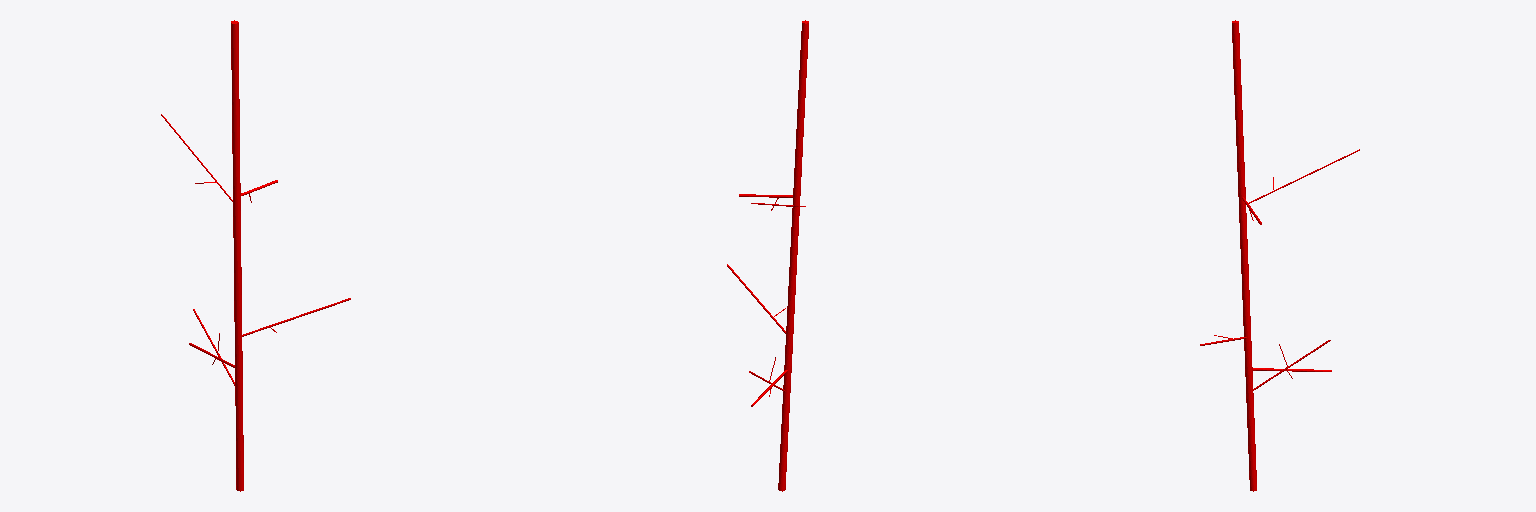
The robot description file, URDF, robot "tree_133.urdf":
<?xml version='1.0' encoding='UTF-8'?>
<robot name="tree_133.urdf">
  <link name="branch_0">
    <inertial>
      <origin xyz="0.0 0.0 0.0" rpy="0.0 -0.0 0.0"/>
      <mass value="0.1"/>
      <inertia ixx="0.001" ixy="0.0" ixz="0.0" iyy="0.001" iyz="0.0" izz="0.001"/>
    </inertial>
    <visual name="branch_0_visual">
      <geometry>
        <cylinder radius="0.07744675478406188" length="10.691958304787752"/>
      </geometry>
      <material name="semantic_material"/>
      <origin xyz="-0.1755566281774261 -0.1914332636066409 5.339665370949552" rpy="0.0 0.04860588912998783 -2.3129596706876603"/>
    </visual>
    <collision name="branch_0_collision">
      <geometry>
        <cylinder radius="0.07744675478406188" length="10.691958304787752"/>
      </geometry>
      <origin xyz="-0.1755566281774261 -0.1914332636066409 5.339665370949552" rpy="0.0 0.04860588912998783 -2.3129596706876603"/>
    </collision>
  </link>
  <link name="branch_1">
    <inertial>
      <origin xyz="0.0 0.0 0.0" rpy="0.0 -0.0 0.0"/>
      <mass value="0.1"/>
      <inertia ixx="0.001" ixy="0.0" ixz="0.0" iyy="0.001" iyz="0.0" izz="0.001"/>
    </inertial>
    <visual name="branch_1_visual">
      <geometry>
        <cylinder radius="0.028432293854142393" length="1.2331762873858894"/>
      </geometry>
      <material name="semantic_material"/>
      <origin xyz="0.0 0.0 0.0" rpy="0.0 -0.0 0.0"/>
    </visual>
    <collision name="branch_1_collision">
      <geometry>
        <cylinder radius="0.028432293854142393" length="1.2331762873858894"/>
      </geometry>
      <origin xyz="0.0 0.0 0.0" rpy="0.0 -0.0 0.0"/>
    </collision>
  </link>
  <link name="branch_2">
    <inertial>
      <origin xyz="0.0 0.0 0.0" rpy="0.0 -0.0 0.0"/>
      <mass value="0.1"/>
      <inertia ixx="0.001" ixy="0.0" ixz="0.0" iyy="0.001" iyz="0.0" izz="0.001"/>
    </inertial>
    <visual name="branch_2_visual">
      <geometry>
        <cylinder radius="0.01" length="0.3638262122680641"/>
      </geometry>
      <material name="semantic_material"/>
      <origin xyz="0.0 0.0 0.0" rpy="0.0 -0.0 0.0"/>
    </visual>
    <collision name="branch_2_collision">
      <geometry>
        <cylinder radius="0.01" length="0.3638262122680641"/>
      </geometry>
      <origin xyz="0.0 0.0 0.0" rpy="0.0 -0.0 0.0"/>
    </collision>
  </link>
  <link name="branch_3">
    <inertial>
      <origin xyz="0.0 0.0 0.0" rpy="0.0 -0.0 0.0"/>
      <mass value="0.1"/>
      <inertia ixx="0.001" ixy="0.0" ixz="0.0" iyy="0.001" iyz="0.0" izz="0.001"/>
    </inertial>
    <visual name="branch_3_visual">
      <geometry>
        <cylinder radius="0.019584868382177083" length="2.0653092703770506"/>
      </geometry>
      <material name="semantic_material"/>
      <origin xyz="0.0 0.0 0.0" rpy="0.0 -0.0 0.0"/>
    </visual>
    <collision name="branch_3_collision">
      <geometry>
        <cylinder radius="0.019584868382177083" length="2.0653092703770506"/>
      </geometry>
      <origin xyz="0.0 0.0 0.0" rpy="0.0 -0.0 0.0"/>
    </collision>
  </link>
  <link name="branch_4">
    <inertial>
      <origin xyz="0.0 0.0 0.0" rpy="0.0 -0.0 0.0"/>
      <mass value="0.1"/>
      <inertia ixx="0.001" ixy="0.0" ixz="0.0" iyy="0.001" iyz="0.0" izz="0.001"/>
    </inertial>
    <visual name="branch_4_visual">
      <geometry>
        <cylinder radius="0.01" length="0.5587573632842031"/>
      </geometry>
      <material name="semantic_material"/>
      <origin xyz="0.0 0.0 0.0" rpy="0.0 -0.0 0.0"/>
    </visual>
    <collision name="branch_4_collision">
      <geometry>
        <cylinder radius="0.01" length="0.5587573632842031"/>
      </geometry>
      <origin xyz="0.0 0.0 0.0" rpy="0.0 -0.0 0.0"/>
    </collision>
  </link>
  <link name="branch_5">
    <inertial>
      <origin xyz="0.0 0.0 0.0" rpy="0.0 -0.0 0.0"/>
      <mass value="0.1"/>
      <inertia ixx="0.001" ixy="0.0" ixz="0.0" iyy="0.001" iyz="0.0" izz="0.001"/>
    </inertial>
    <visual name="branch_5_visual">
      <geometry>
        <cylinder radius="0.026598497056350184" length="1.756850281171683"/>
      </geometry>
      <material name="semantic_material"/>
      <origin xyz="0.0 0.0 0.0" rpy="0.0 -0.0 0.0"/>
    </visual>
    <collision name="branch_5_collision">
      <geometry>
        <cylinder radius="0.026598497056350184" length="1.756850281171683"/>
      </geometry>
      <origin xyz="0.0 0.0 0.0" rpy="0.0 -0.0 0.0"/>
    </collision>
  </link>
  <link name="branch_6">
    <inertial>
      <origin xyz="0.0 0.0 0.0" rpy="0.0 -0.0 0.0"/>
      <mass value="0.1"/>
      <inertia ixx="0.001" ixy="0.0" ixz="0.0" iyy="0.001" iyz="0.0" izz="0.001"/>
    </inertial>
    <visual name="branch_6_visual">
      <geometry>
        <cylinder radius="0.01" length="0.23416071700882568"/>
      </geometry>
      <material name="semantic_material"/>
      <origin xyz="0.0 0.0 0.0" rpy="0.0 -0.0 0.0"/>
    </visual>
    <collision name="branch_6_collision">
      <geometry>
        <cylinder radius="0.01" length="0.23416071700882568"/>
      </geometry>
      <origin xyz="0.0 0.0 0.0" rpy="0.0 -0.0 0.0"/>
    </collision>
  </link>
  <link name="branch_7">
    <inertial>
      <origin xyz="0.0 0.0 0.0" rpy="0.0 -0.0 0.0"/>
      <mass value="0.1"/>
      <inertia ixx="0.001" ixy="0.0" ixz="0.0" iyy="0.001" iyz="0.0" izz="0.001"/>
    </inertial>
    <visual name="branch_7_visual">
      <geometry>
        <cylinder radius="0.022126264698177345" length="2.4152155654738308"/>
      </geometry>
      <material name="semantic_material"/>
      <origin xyz="0.0 0.0 0.0" rpy="0.0 -0.0 0.0"/>
    </visual>
    <collision name="branch_7_collision">
      <geometry>
        <cylinder radius="0.022126264698177345" length="2.4152155654738308"/>
      </geometry>
      <origin xyz="0.0 0.0 0.0" rpy="0.0 -0.0 0.0"/>
    </collision>
  </link>
  <link name="branch_8">
    <inertial>
      <origin xyz="0.0 0.0 0.0" rpy="0.0 -0.0 0.0"/>
      <mass value="0.1"/>
      <inertia ixx="0.001" ixy="0.0" ixz="0.0" iyy="0.001" iyz="0.0" izz="0.001"/>
    </inertial>
    <visual name="branch_8_visual">
      <geometry>
        <cylinder radius="0.01" length="0.4377560216689767"/>
      </geometry>
      <material name="semantic_material"/>
      <origin xyz="0.0 0.0 0.0" rpy="0.0 -0.0 0.0"/>
    </visual>
    <collision name="branch_8_collision">
      <geometry>
        <cylinder radius="0.01" length="0.4377560216689767"/>
      </geometry>
      <origin xyz="0.0 0.0 0.0" rpy="0.0 -0.0 0.0"/>
    </collision>
  </link>
  <link name="branch_9">
    <inertial>
      <origin xyz="0.0 0.0 0.0" rpy="0.0 -0.0 0.0"/>
      <mass value="0.1"/>
      <inertia ixx="0.001" ixy="0.0" ixz="0.0" iyy="0.001" iyz="0.0" izz="0.001"/>
    </inertial>
    <visual name="branch_9_visual">
      <geometry>
        <cylinder radius="0.015659662206368847" length="2.7423094523749105"/>
      </geometry>
      <material name="semantic_material"/>
      <origin xyz="0.0 0.0 0.0" rpy="0.0 -0.0 0.0"/>
    </visual>
    <collision name="branch_9_collision">
      <geometry>
        <cylinder radius="0.015659662206368847" length="2.7423094523749105"/>
      </geometry>
      <origin xyz="0.0 0.0 0.0" rpy="0.0 -0.0 0.0"/>
    </collision>
  </link>
  <link name="branch_10">
    <inertial>
      <origin xyz="0.0 0.0 0.0" rpy="0.0 -0.0 0.0"/>
      <mass value="0.1"/>
      <inertia ixx="0.001" ixy="0.0" ixz="0.0" iyy="0.001" iyz="0.0" izz="0.001"/>
    </inertial>
    <visual name="branch_10_visual">
      <geometry>
        <cylinder radius="0.01" length="0.527602069183873"/>
      </geometry>
      <material name="semantic_material"/>
      <origin xyz="0.0 0.0 0.0" rpy="0.0 -0.0 0.0"/>
    </visual>
    <collision name="branch_10_collision">
      <geometry>
        <cylinder radius="0.01" length="0.527602069183873"/>
      </geometry>
      <origin xyz="0.0 0.0 0.0" rpy="0.0 -0.0 0.0"/>
    </collision>
  </link>
  <joint name="joint_0_1" type="fixed">
    <parent link="branch_0"/>
    <child link="branch_1"/>
    <axis xyz="1. 0. 0."/>
    <origin xyz="0.3625857696159531 -0.04268675096762576 6.650363198160525" rpy="2.8134358477604113 1.4978895998624508 3.139077591494693"/>
  </joint>
  <joint name="joint_0_3" type="fixed">
    <parent link="branch_0"/>
    <child link="branch_3"/>
    <axis xyz="1. 0. 0."/>
    <origin xyz="-0.11429135781172464 0.7678969889697337 2.8161916881473585" rpy="-0.05917221150559419 0.9635693402221057 1.5471549442803743"/>
  </joint>
  <joint name="joint_0_5" type="fixed">
    <parent link="branch_0"/>
    <child link="branch_5"/>
    <axis xyz="1. 0. 0."/>
    <origin xyz="-0.16007493551737562 0.774969173507269 2.702041628955415" rpy="-2.6345447139492477 1.497283539503248 -0.9833672415866461"/>
  </joint>
  <joint name="joint_0_7" type="fixed">
    <parent link="branch_0"/>
    <child link="branch_7"/>
    <axis xyz="1. 0. 0."/>
    <origin xyz="0.9167745519674025 -0.618536152544306 3.8743242674149303" rpy="0.142777879058907 1.239729055714663 -0.29548492329740855"/>
  </joint>
  <joint name="joint_0_9" type="fixed">
    <parent link="branch_0"/>
    <child link="branch_9"/>
    <axis xyz="1. 0. 0."/>
    <origin xyz="-0.3868769381970382 1.0009038055060746 7.04497510314411" rpy="-0.08814514403485108 1.1368891319961474 1.61401387437963"/>
  </joint>
  <joint name="joint_1_2" type="fixed">
    <parent link="branch_0"/>
    <child link="branch_2"/>
    <axis xyz="1. 0. 0."/>
    <origin xyz="0.1965295232935714 -0.060395889547869064 6.506423766758464" rpy="2.887964312905414 0.42330329339466044 -2.9374598808326198"/>
  </joint>
  <joint name="joint_3_4" type="fixed">
    <parent link="branch_0"/>
    <child link="branch_4"/>
    <axis xyz="1. 0. 0."/>
    <origin xyz="-0.14112106945215452 0.629395078313724 3.0457835942110982" rpy="0.10854669864229823 0.33258607000429047 -1.5582579481132879"/>
  </joint>
  <joint name="joint_5_6" type="fixed">
    <parent link="branch_0"/>
    <child link="branch_6"/>
    <axis xyz="1. 0. 0."/>
    <origin xyz="-0.16436672428524277 0.7565591491109888 2.606756814020863" rpy="3.072414683147554 0.5378287041095089 -1.5308699384046183"/>
  </joint>
  <joint name="joint_7_8" type="fixed">
    <parent link="branch_0"/>
    <child link="branch_8"/>
    <axis xyz="1. 0. 0."/>
    <origin xyz="0.40991430696182785 -0.6069853886452444 3.7268819097544243" rpy="-1.4270269368682105 0.29847986011892713 3.0177335725217502"/>
  </joint>
  <joint name="joint_9_10" type="fixed">
    <parent link="branch_0"/>
    <child link="branch_10"/>
    <axis xyz="1. 0. 0."/>
    <origin xyz="-0.5619015827693986 0.41436967765078986 6.817246794021237" rpy="1.3668804112676671 0.39638173485654077 -1.6821783013178353"/>
  </joint>
  <material name="semantic_material">
    <color rgba="1. 0. 0. 1."/>
  </material>
</robot>

--- Facts derived from the render (not from the file) ---
3 views of the same robot in one strip: view 1: azimuth 30°, elevation 25°; view 2: azimuth 150°, elevation 25°; view 3: azimuth 270°, elevation 25° (orthographic).
Robot: tree_133.urdf — 11 links, 10 joints (10 fixed); root link branch_0; default pose: every joint at zero.
Links seen in each view (by area): view 1: branch_0; view 2: branch_0; view 3: branch_0.
Link boxes in pixels (x1,y1,x2,y2): branch_0: [231, 20, 243, 491]; branch_0: [778, 20, 808, 491]; branch_0: [1232, 20, 1256, 491].
Size in the robot's own frame: 2.78 by 3.37 by 10.69 metres.
Geometry: primitives only (box / cylinder / sphere), no mesh files.
